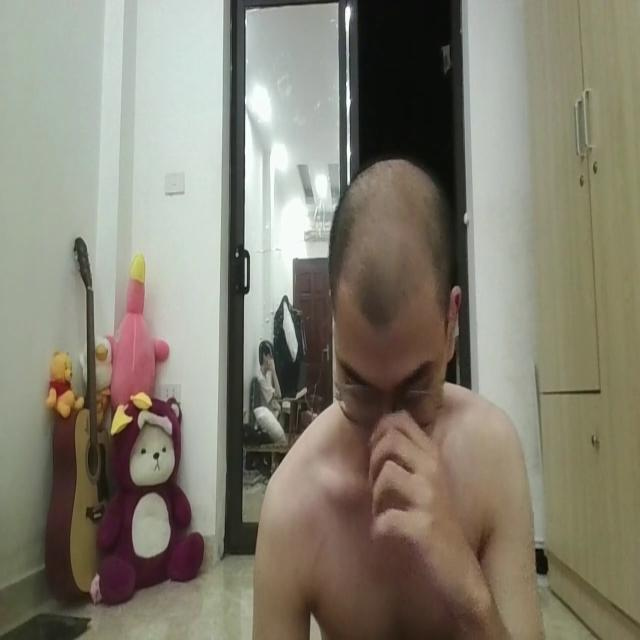extra_person: (254, 322, 294, 428)
student: (238, 152, 555, 640)
